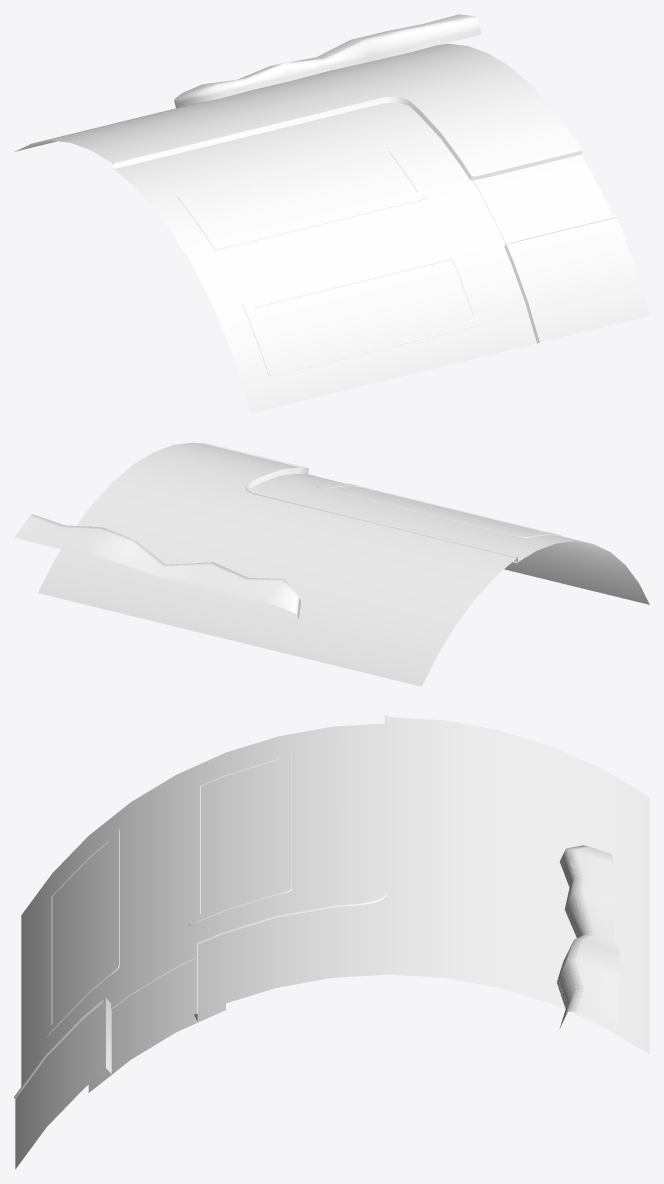
The model's file is grd_Ex_w_ne_0.dae.
3 renders of one model, top to bottom at view 1: azimuth 30°, elevation 25°; view 2: azimuth 150°, elevation 25°; view 3: azimuth 270°, elevation 25°, orthographic. The views are drawn at different scales.
Parts seen in each view (by area): view 1: grass_1_0, road0_3_0, renga0_2_0, cliff4_0_0; view 2: grass_1_0, road0_3_0, renga0_2_0, cliff4_0_0; view 3: grass_1_0, road0_3_0, renga0_2_0, cliff4_0_0.
Part boxes in pixels (x1,y1,x2,y2): grass_1_0: (14,14,649,364); road0_3_0: (113,102,612,413); renga0_2_0: (112,95,616,376); cliff4_0_0: (174,16,481,108); grass_1_0: (14,442,603,686); road0_3_0: (250,473,649,604); renga0_2_0: (202,442,561,561); cliff4_0_0: (30,514,300,618); grass_1_0: (15,717,649,1169); road0_3_0: (21,723,384,1092); renga0_2_0: (14,715,387,1098); cliff4_0_0: (557,845,593,1028).
Size of the model in its own units: 768 by 254 by 735.
Materials: 4 (1 with a texture image).
